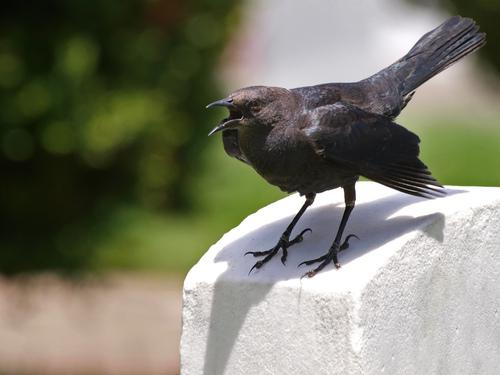009.Brewer_Blackbird: (204, 17, 488, 280)
